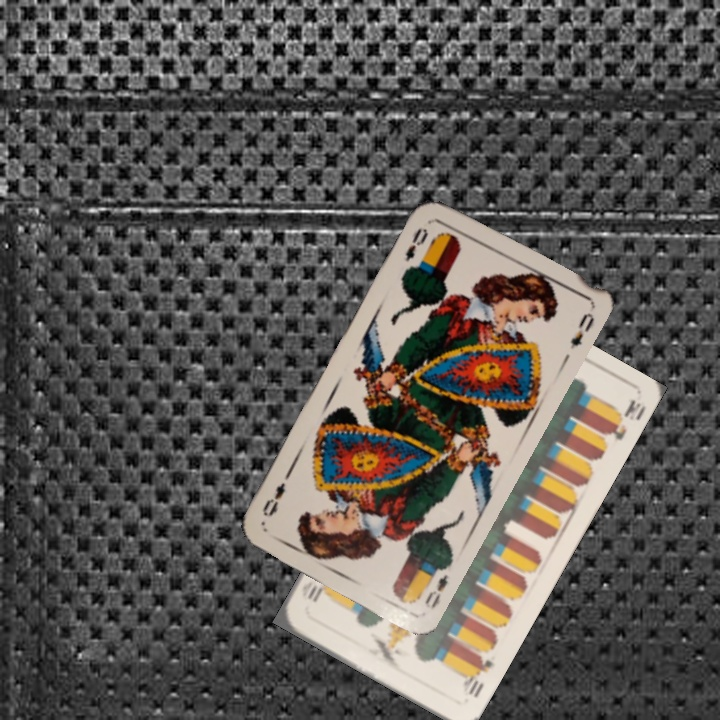E10: (458, 651, 496, 701)
EO: (420, 570, 451, 611), (401, 223, 431, 264)
